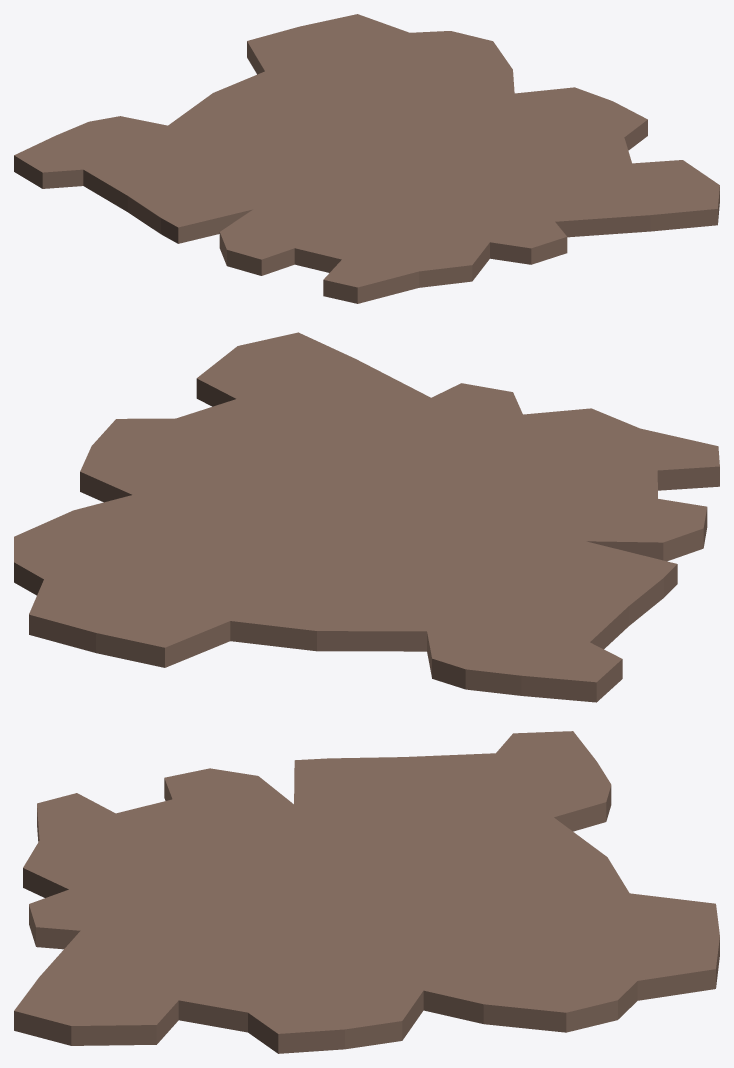
The model's file is SM_island08.fbx.
3 views of the same model, one above another, from view 1: azimuth 30°, elevation 25°; view 2: azimuth 150°, elevation 25°; view 3: azimuth 270°, elevation 25° (orthographic). The views are drawn at different scales.
Visible parts, largest first — view 1: SM_island08; view 2: SM_island08; view 3: SM_island08.
Part boxes in pixels (bbox=[...]): SM_island08: bbox=[14, 14, 719, 303]; SM_island08: bbox=[14, 332, 719, 702]; SM_island08: bbox=[14, 731, 719, 1053].
Size of the model in its own units: 4256 by 130 by 4192.
